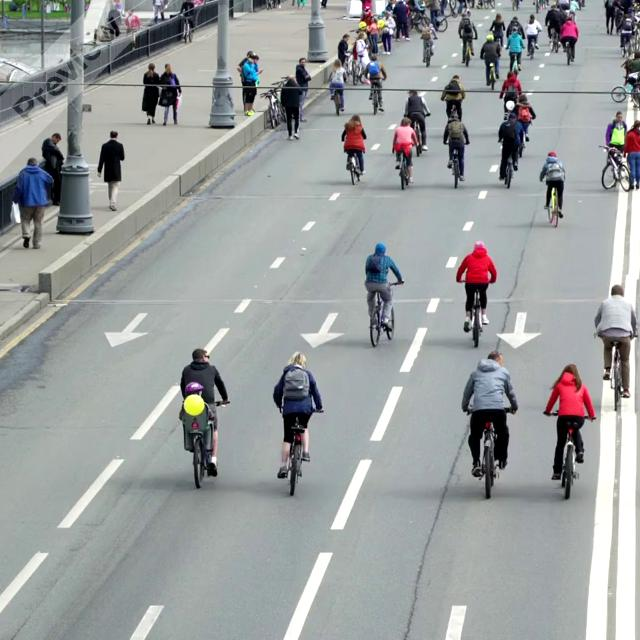bicycle: (464, 407, 516, 499), (543, 410, 594, 499), (181, 399, 229, 489), (276, 406, 323, 496), (594, 332, 637, 411), (367, 280, 404, 347), (598, 143, 631, 190), (463, 286, 487, 347), (259, 79, 288, 129), (498, 141, 522, 189), (542, 180, 564, 227), (445, 141, 467, 188), (393, 144, 414, 190), (611, 74, 639, 104), (365, 77, 384, 114), (345, 150, 364, 185), (517, 118, 533, 158), (329, 82, 346, 115), (178, 13, 194, 43), (412, 121, 423, 157)
